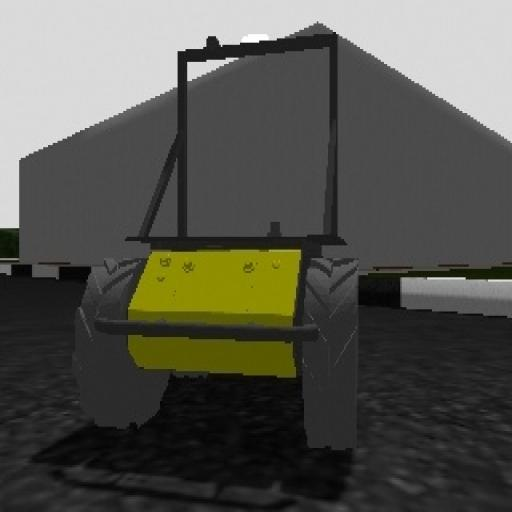huskya200: (86, 23, 354, 485)
